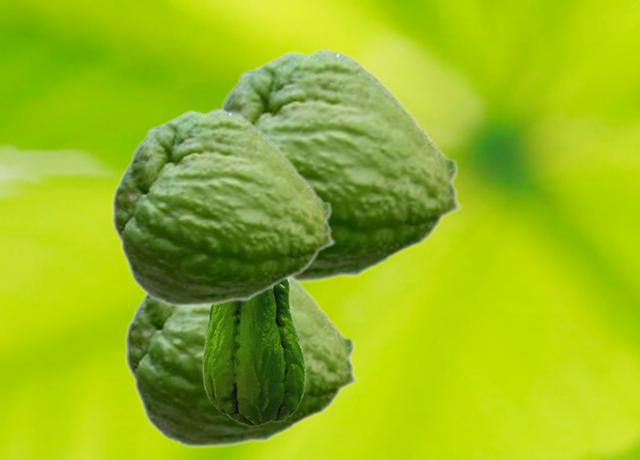sayote: (217, 47, 463, 284), (111, 107, 336, 307), (124, 276, 359, 448), (202, 279, 305, 426)
